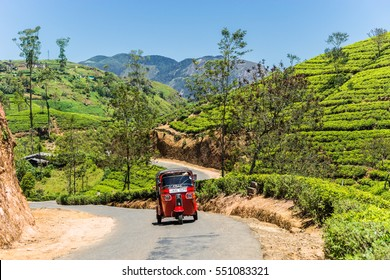threewheel: (153, 166, 199, 225)
